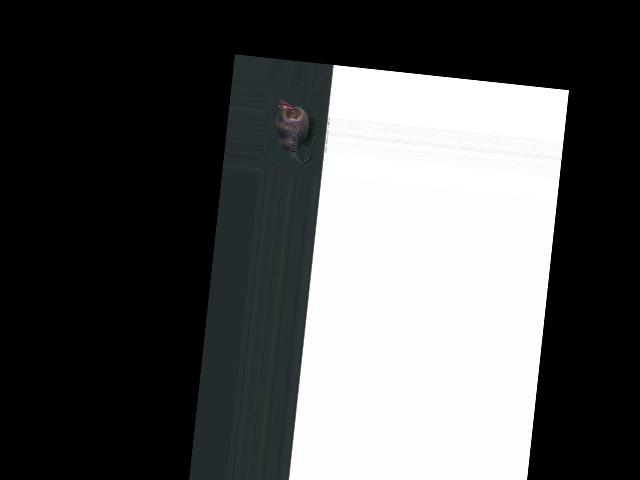beet: (272, 97, 319, 163)
